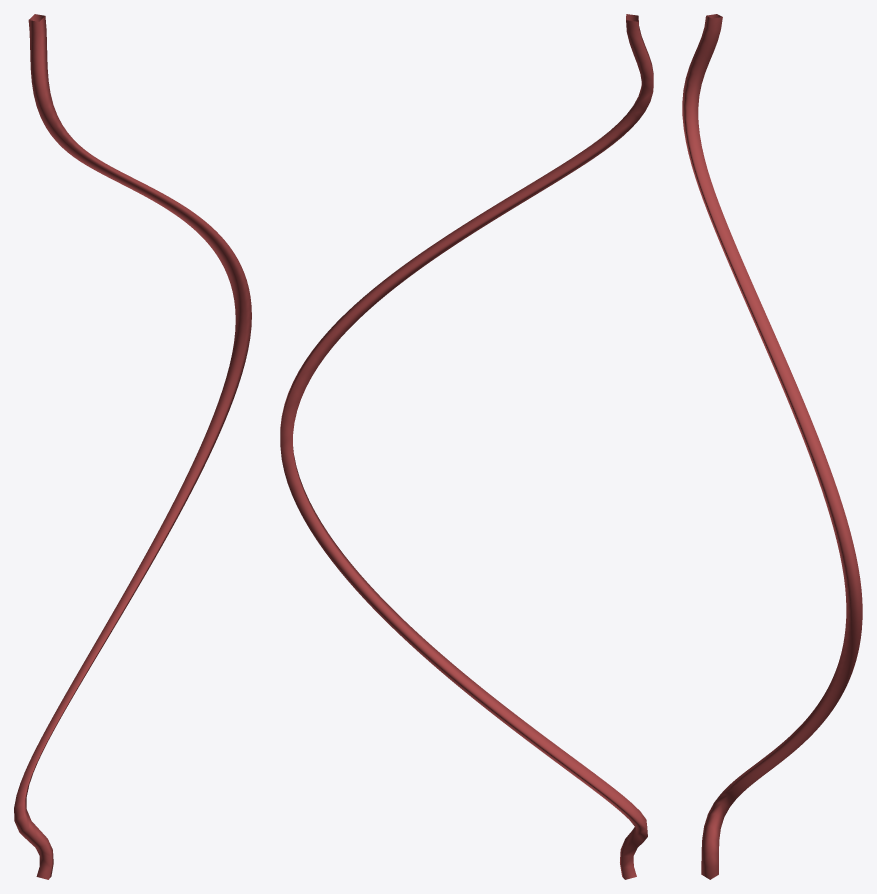
File: wireFiveStraightPrime.fbx
3 renders of one model, left to right at view 1: azimuth 30°, elevation 25°; view 2: azimuth 150°, elevation 25°; view 3: azimuth 270°, elevation 25°, orthographic.
Visible parts, largest first — view 1: extrudedSurface6; view 2: extrudedSurface6; view 3: extrudedSurface6.
Boxes of the visible parts, x1,y1,x2,y2 form: extrudedSurface6: [14, 14, 251, 879]; extrudedSurface6: [280, 14, 653, 879]; extrudedSurface6: [682, 14, 862, 879].
Bounding box in the file's own units: 21.48 × 58.69 × 11.17.
